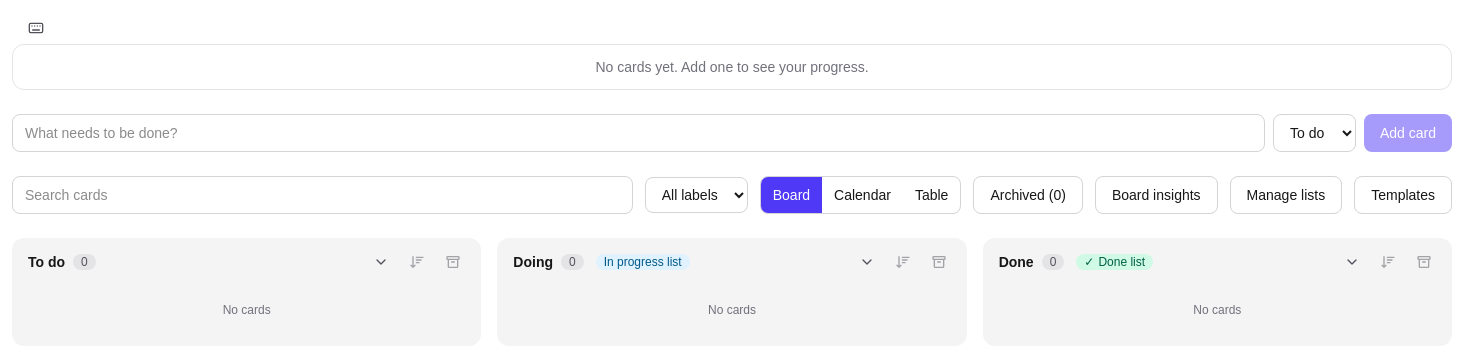
it: <KeyboardShortcuts /> › ignores shortcuts while typing in inputs
Click the field named "New card title" at (638, 133), box [12,114,1265,152]
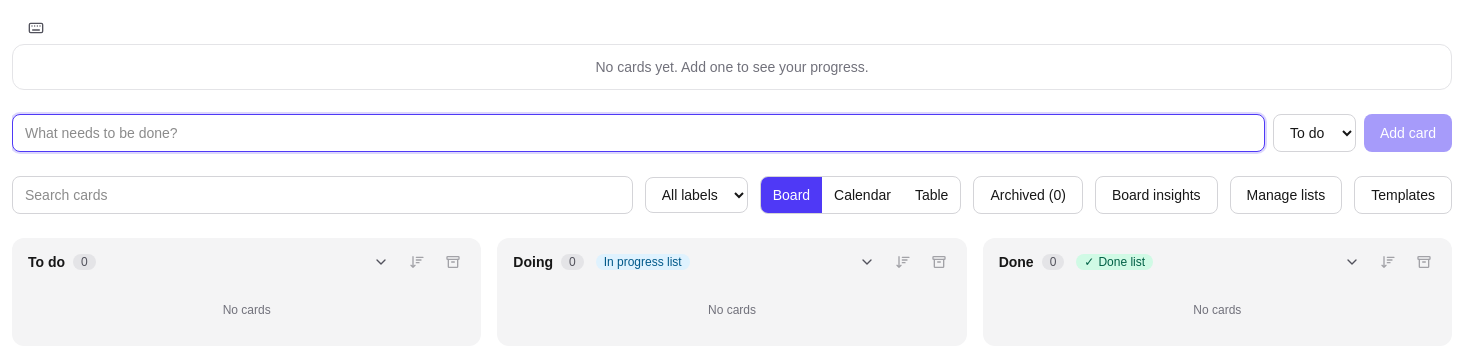
Type keys "n?/"
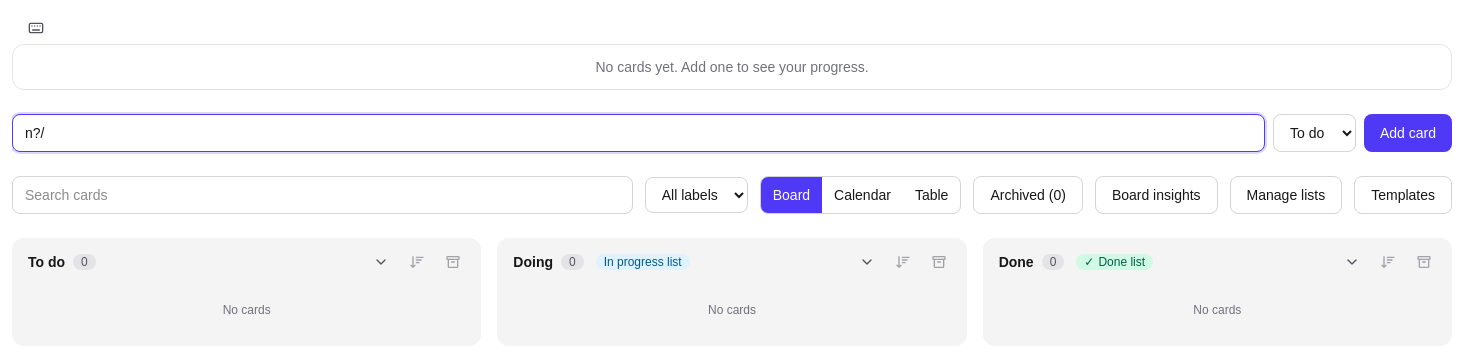
Check: the field named "New card title" holds "n?/", box [12,114,1265,152]
Click the field labelled "Search cards" at (322, 195), box [12,176,633,214]
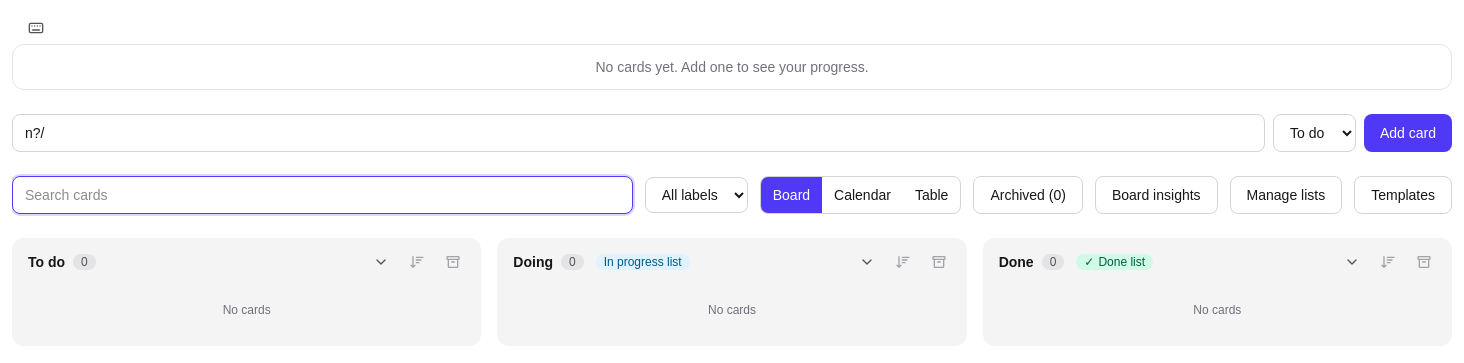
Type keys "n?"
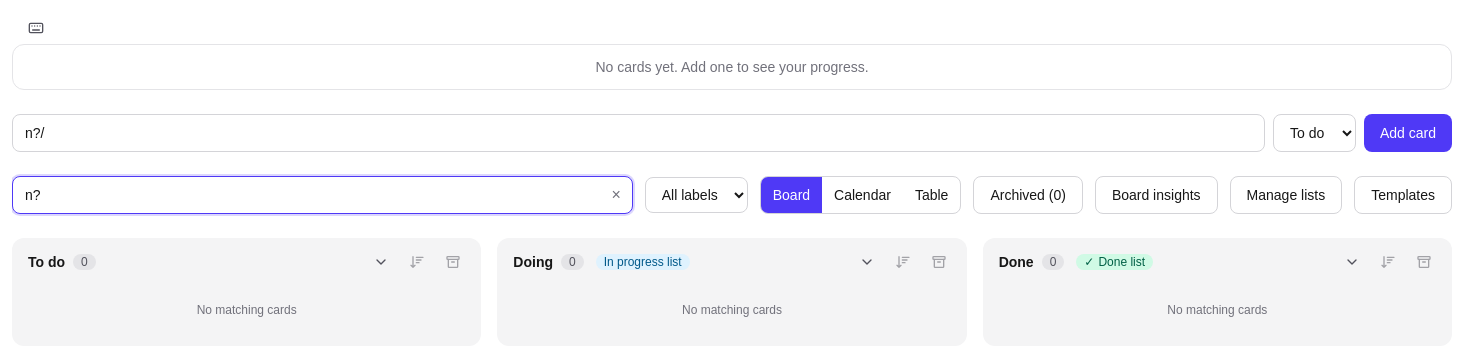
Check: the field named "Search cards" holds "n?", box [12,176,633,214]
